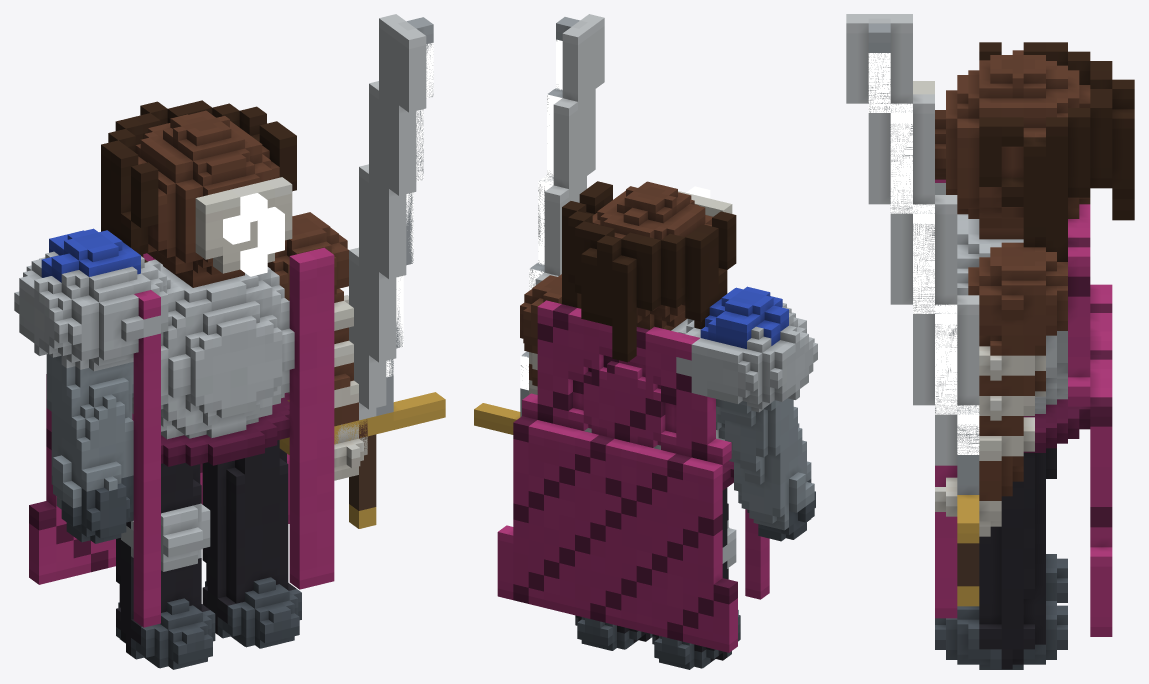
File: u_garde__tidiane.glb
3 views of the same model, side by side, from view 1: azimuth 30°, elevation 25°; view 2: azimuth 150°, elevation 25°; view 3: azimuth 270°, elevation 25° (orthographic). The views are drawn at different scales.
Visible parts, largest first — view 1: garde_body, garde_weapon, garde_glow, garde_weaponglow; view 2: garde_body, garde_weapon, garde_weaponglow; view 3: garde_body, garde_weapon, garde_weaponglow.
Part boxes in pixels (<box>): garde_body: <box>14,100,367,669</box>; garde_weapon: <box>279,14,445,528</box>; garde_glow: <box>223,193,284,276</box>; garde_weaponglow: <box>386,43,433,377</box>; garde_body: <box>497,181,817,669</box>; garde_weapon: <box>474,14,604,434</box>; garde_weaponglow: <box>520,39,562,390</box>; garde_body: <box>913,42,1134,669</box>; garde_weapon: <box>846,14,979,606</box>; garde_weaponglow: <box>868,53,979,454</box>.
Size of the model in its own units: 1.1 by 1.73 by 0.65.
